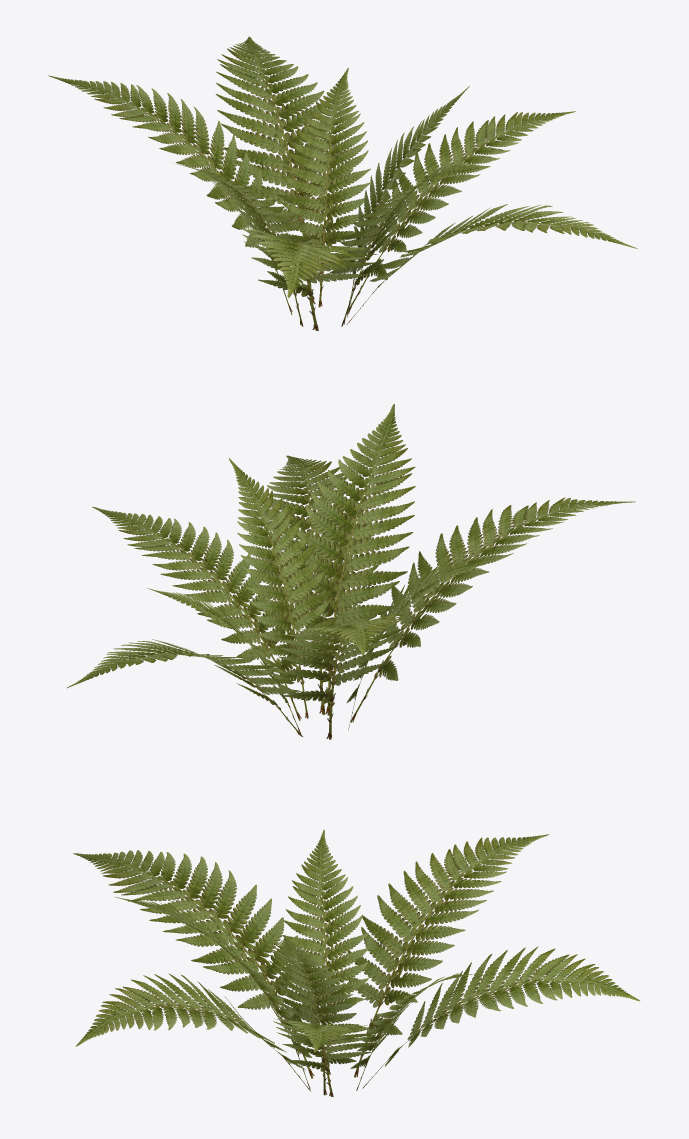
The model's file is fern_small_a_lod0.gltf.
3 renders of one model, top to bottom at view 1: azimuth 30°, elevation 25°; view 2: azimuth 150°, elevation 25°; view 3: azimuth 270°, elevation 25°, orthographic. The views are drawn at different scales.
Visible parts, largest first — view 1: fern_small_a_LOD0; view 2: fern_small_a_LOD0; view 3: fern_small_a_LOD0.
Part boxes in pixels (x1,y1,x2,y2): fern_small_a_LOD0: (48,36,637,330); fern_small_a_LOD0: (66,404,635,739); fern_small_a_LOD0: (73,829,639,1096).
Bounding box in the file's own units: 0.6388 × 0.2917 × 0.7969.
Materials: 1 (1 with a texture image).
